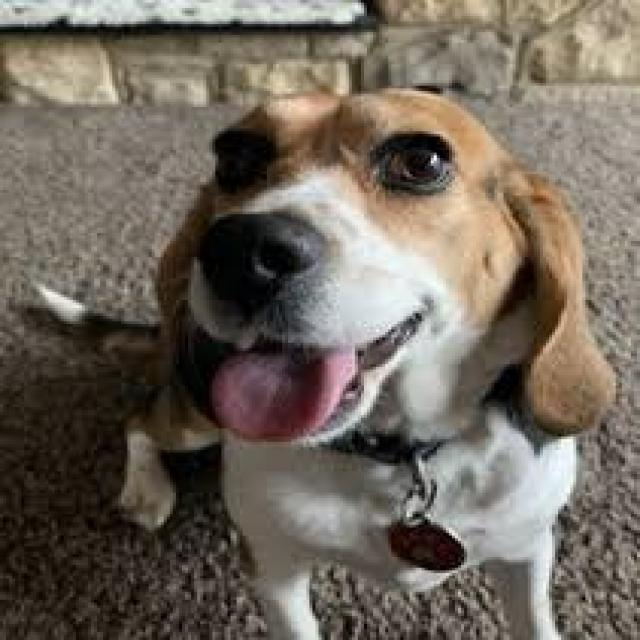Dog: (24, 80, 622, 640)
